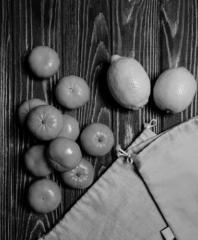organic: (101, 46, 148, 108), (154, 57, 192, 118), (26, 177, 68, 217), (84, 120, 118, 161), (21, 42, 57, 76), (58, 70, 90, 108), (50, 139, 86, 169), (30, 104, 64, 134), (23, 145, 52, 177)
